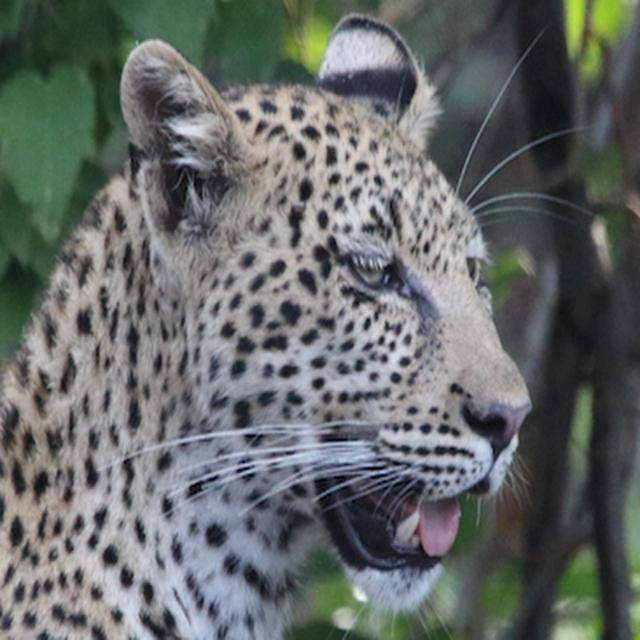Leopard: (0, 11, 567, 640)
